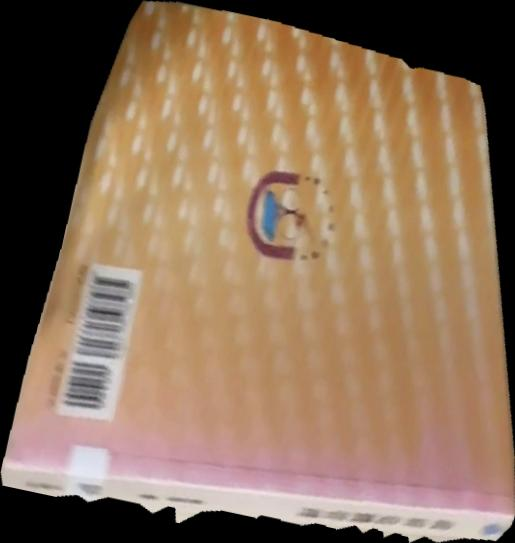flat: (1, 1, 515, 543)
